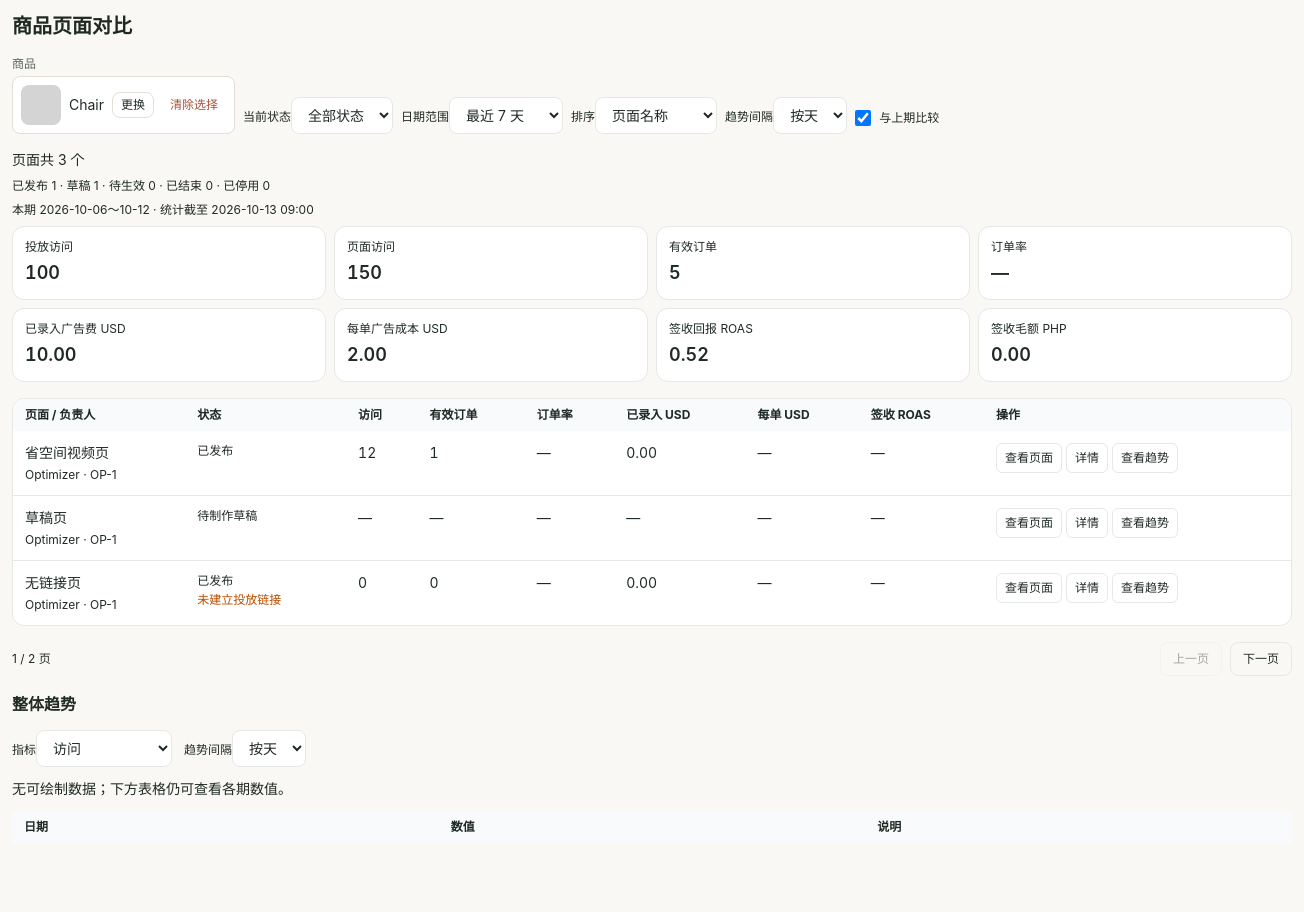
Test: marketing performance dashboard › keeps product, dates, sort, page and expanded rows across a language change
Check: the text "省空间视频页" is shown, box x1=25 y1=444 x2=109 y2=461
Select "有效订单" in the dropdown labelled "排序" at (656, 116), box x1=595 y1=97 x2=717 y2=134
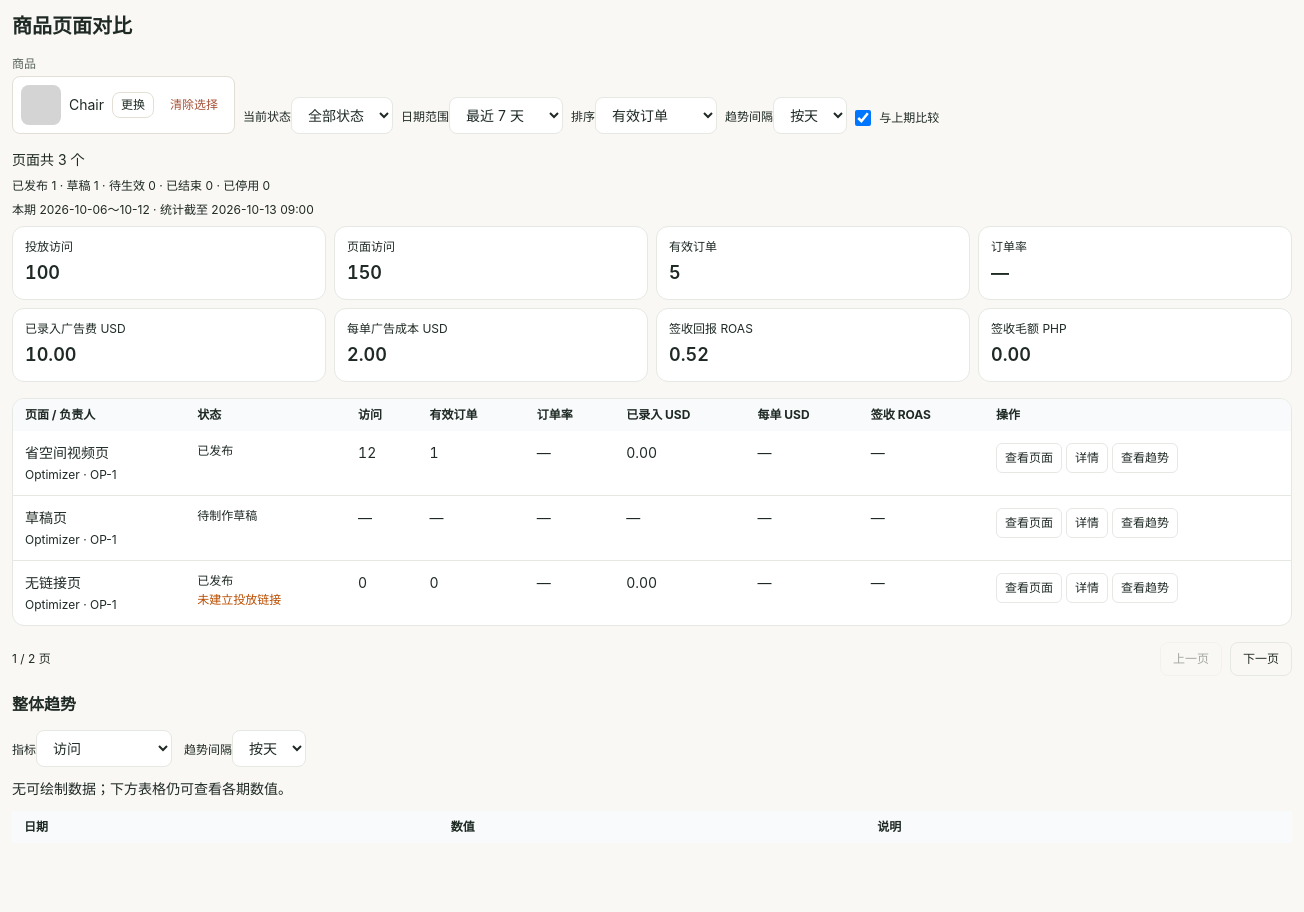
Check: the text "省空间视频页" is shown, box x1=25 y1=444 x2=109 y2=461
Click the button "下一页" at (1261, 659), box x1=1230 y1=642 x2=1292 y2=676
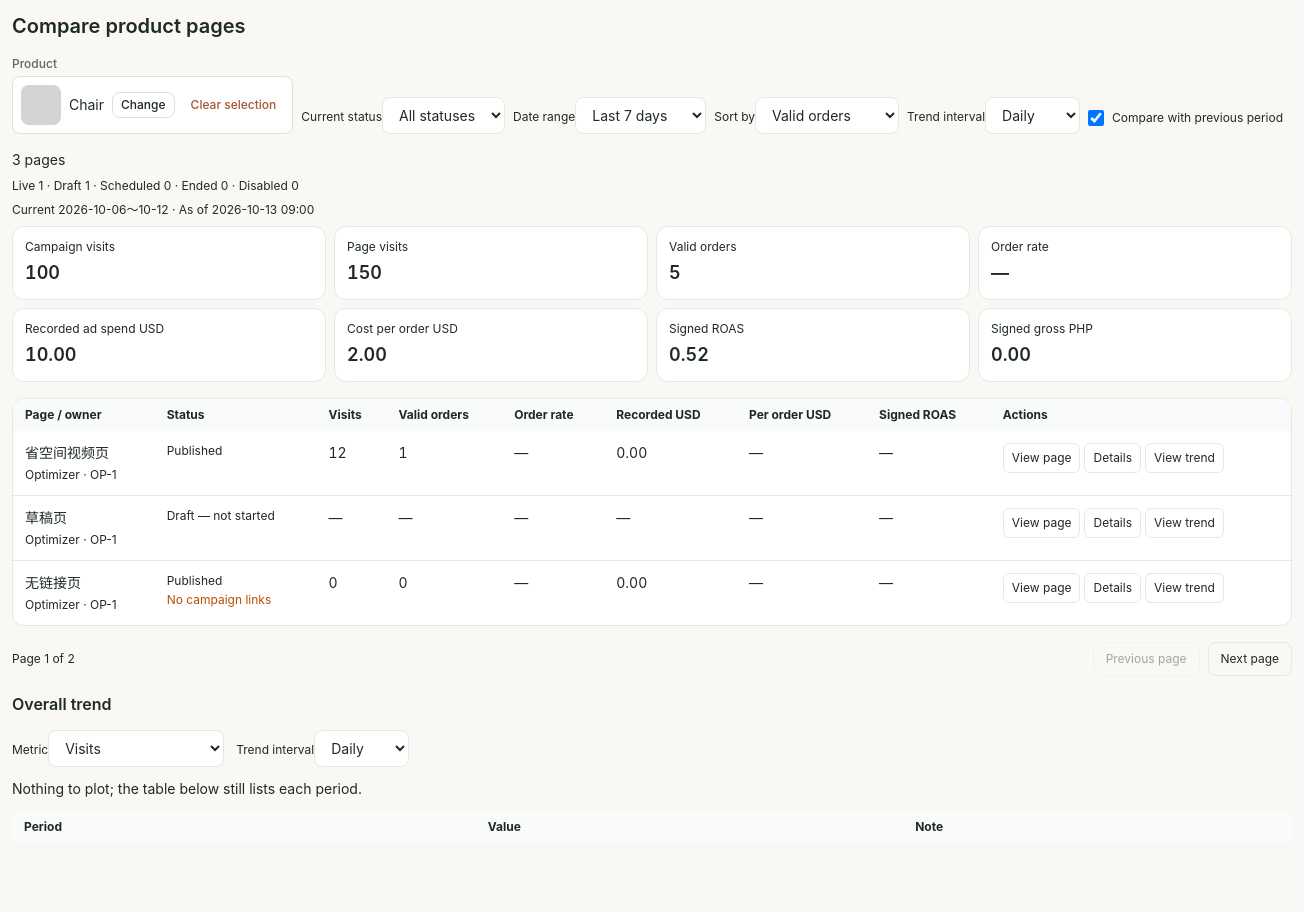
Check: the heading "Compare product pages" is shown, box x1=12 y1=14 x2=246 y2=38
